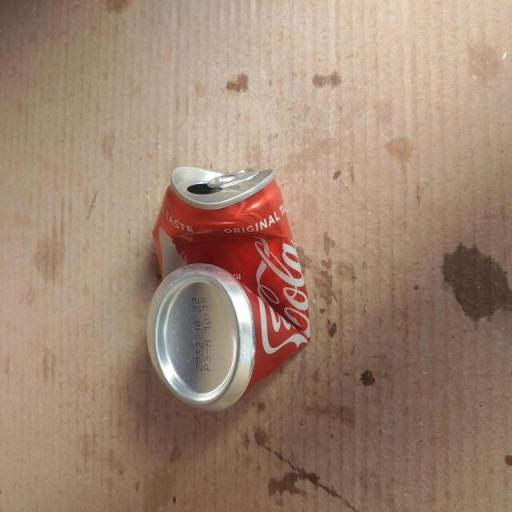metal: (137, 150, 313, 444)
